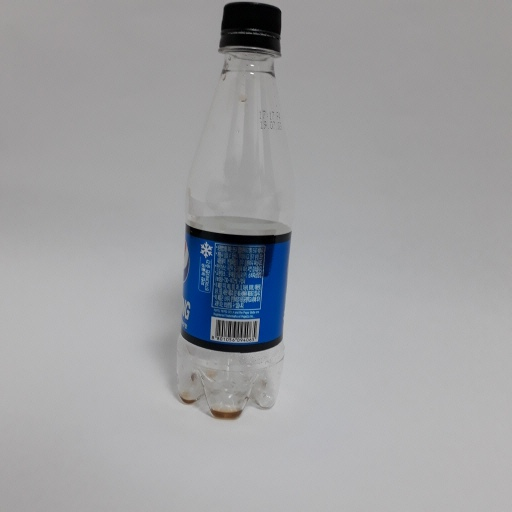Plastic_0: (173, 1, 295, 423)
